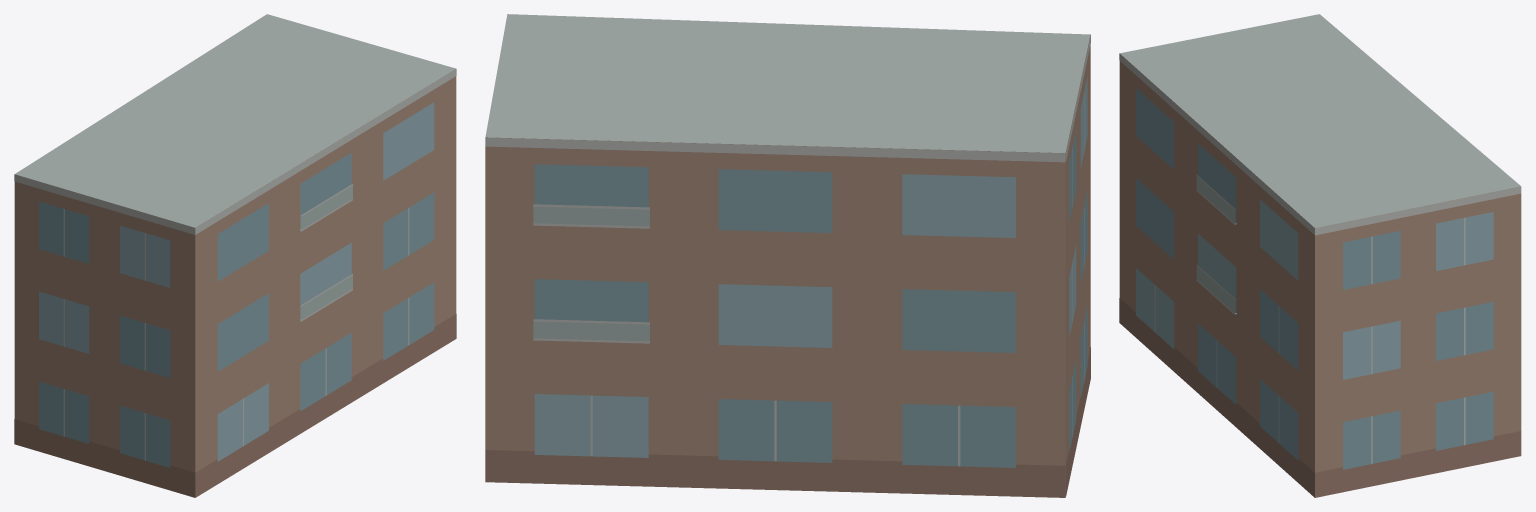
Rendered from survey-upis-32893312.glb.
The picture shows the model from 3 angles, left to right: view 1: azimuth 30°, elevation 25°; view 2: azimuth 150°, elevation 25°; view 3: azimuth 270°, elevation 25°; orthographic projection. The views are drawn at different scales.
Visible parts, largest first — view 1: survey-upis-32893312.tmp; view 2: survey-upis-32893312.tmp; view 3: survey-upis-32893312.tmp.
Boxes of the visible parts, x1,y1,x2,y2 form: survey-upis-32893312.tmp: (14,14,456,497); survey-upis-32893312.tmp: (485,14,1090,497); survey-upis-32893312.tmp: (1119,14,1521,497).
Bounding box in the file's own units: 15.6 × 9.15 × 12.37.
